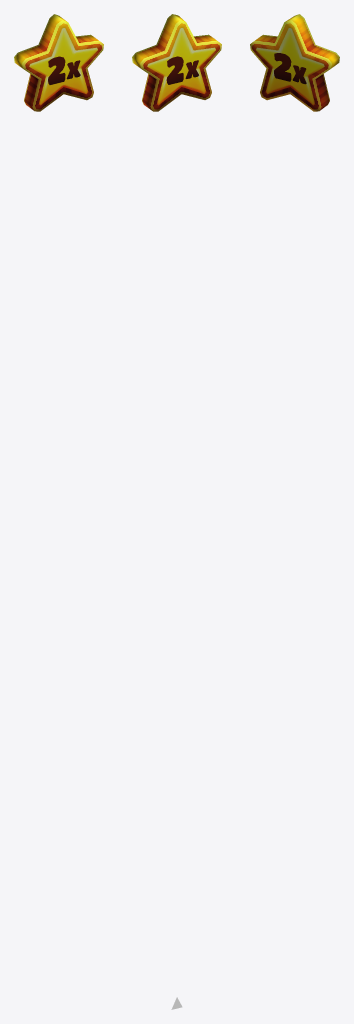
The model's file is MultiplierScore2xIcon.glb.
3 views of the same model, side by side, from view 1: azimuth 30°, elevation 25°; view 2: azimuth 210°, elevation 25°; view 3: azimuth 330°, elevation 25° (orthographic).
Visible parts, largest first — view 1: multiplier; view 2: multiplier; view 3: multiplier.
Part boxes in pixels (bbox=[...]): multiplier: bbox=[14, 14, 103, 111]; multiplier: bbox=[132, 14, 221, 1009]; multiplier: bbox=[250, 14, 339, 111].
Size of what is drawn, in the model's own units: 12.24 by 144 by 2.66.
Materials: 2 (1 with a texture image).
